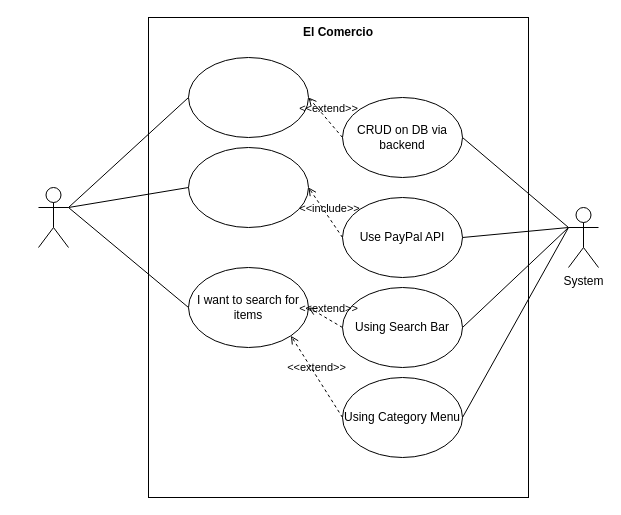
This 621x515 diagram has some shape labels left out. Each missing label, with the box of its shape:
Customer (All/Standard): (38, 186, 68, 248)
I expect secure payments: (188, 146, 308, 228)
I want to CRUD basket, orders, personal details: (188, 56, 308, 138)
